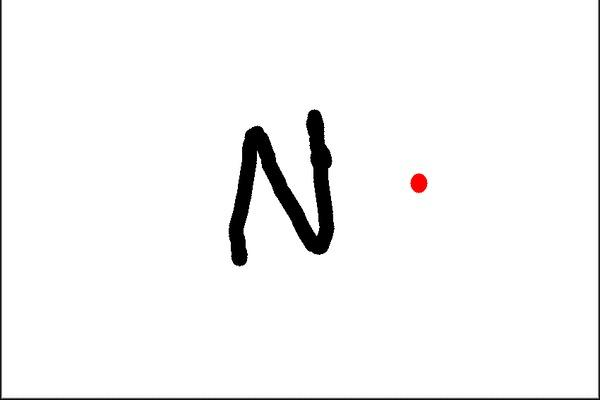N: (223, 101, 341, 272)
